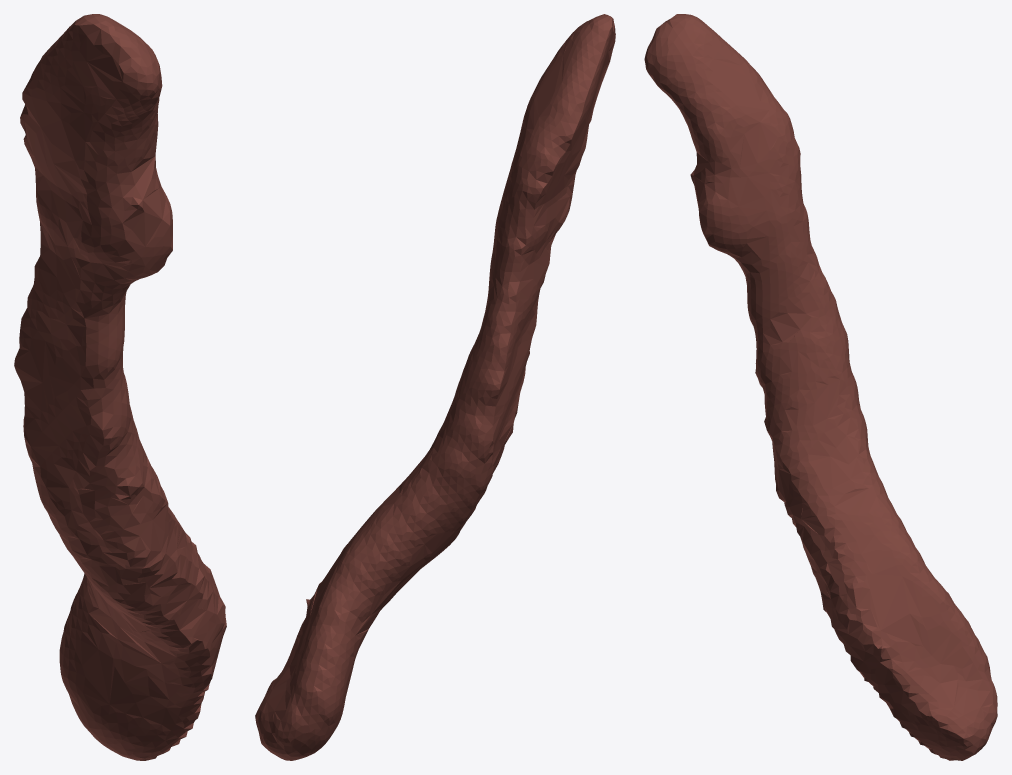
File: Model_10503_LH__Nucleus_of_the_spinal_trigeminal_tract_(Sp5).obj
3 renders of one model, left to right at view 1: azimuth 30°, elevation 25°; view 2: azimuth 150°, elevation 25°; view 3: azimuth 270°, elevation 25°, orthographic. The views are drawn at different scales.
Bounding box in the file's own units: 2.6 × 7.75 × 3.75.
